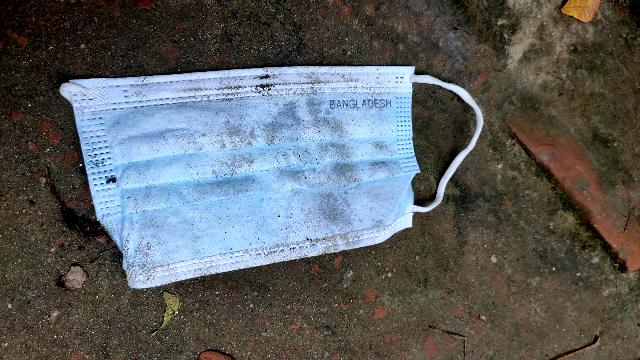mask: (69, 60, 421, 284)
